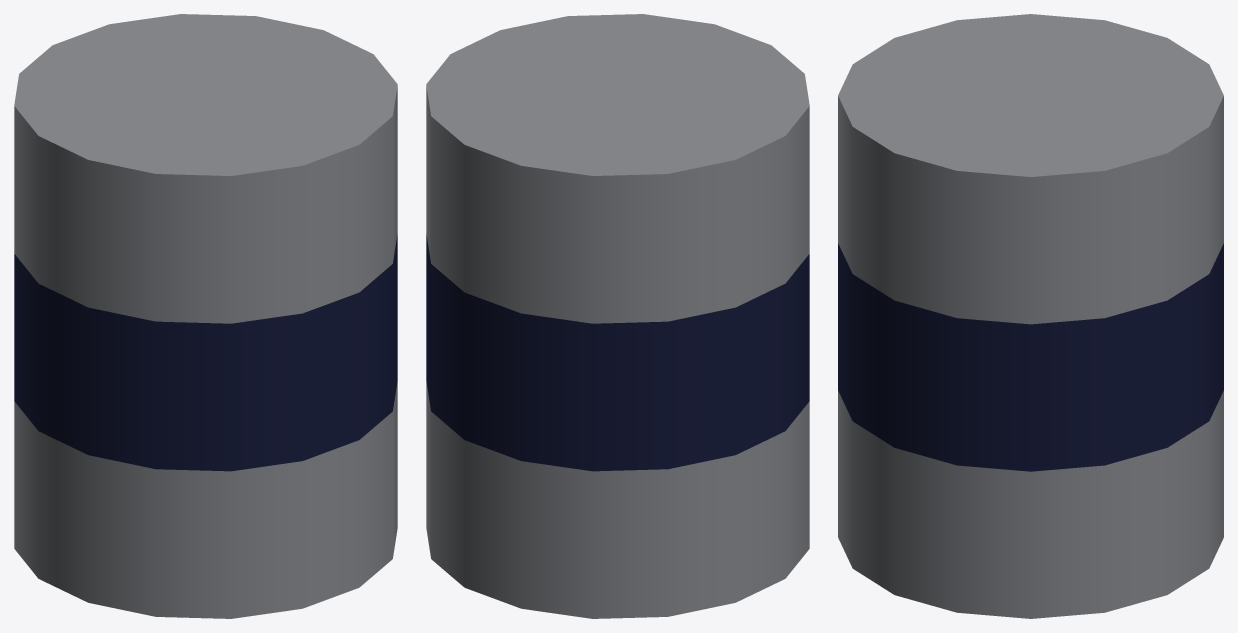
The model's file is gen-cyl.obj.
3 renders of one model, left to right at view 1: azimuth 30°, elevation 25°; view 2: azimuth 150°, elevation 25°; view 3: azimuth 270°, elevation 25°, orthographic.
Parts seen in each view (by area): view 1: gen-cyl; view 2: gen-cyl; view 3: gen-cyl.
Boxes of the visible parts, <box> form: gen-cyl: <box>14,14,397,618</box>; gen-cyl: <box>426,14,809,618</box>; gen-cyl: <box>838,14,1223,618</box>.
Bounding box in the file's own units: 1.9 × 2.4 × 1.9.
